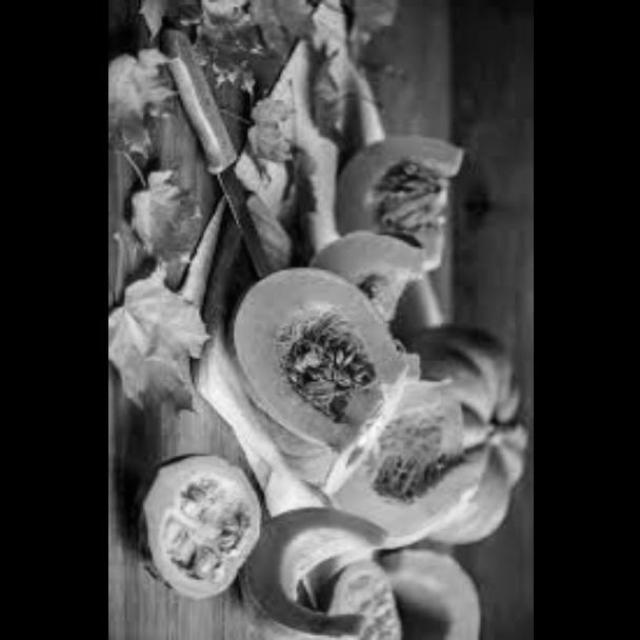bi ngo: (221, 268, 415, 492), (398, 322, 528, 547), (320, 356, 476, 538), (131, 442, 265, 602), (331, 120, 463, 280), (239, 505, 390, 640), (306, 218, 426, 315), (370, 541, 486, 640), (314, 553, 405, 640)
